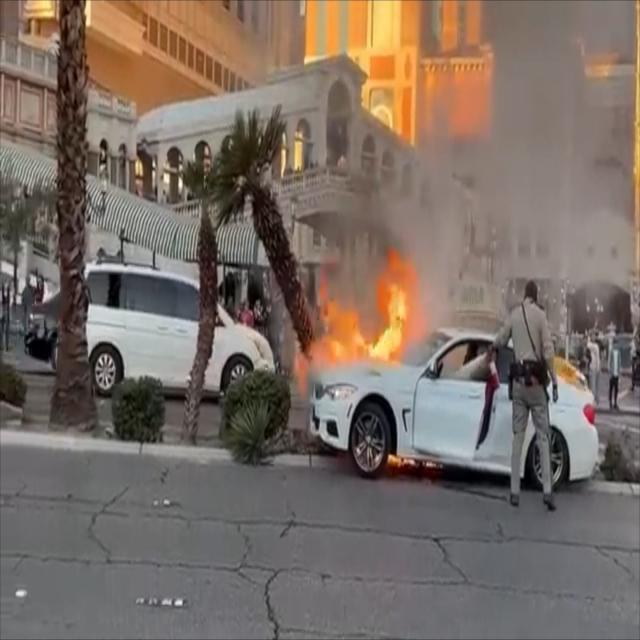fire: (296, 248, 420, 370)
